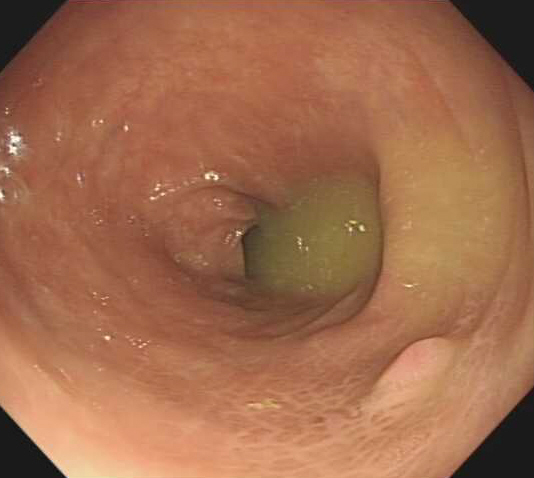adenoma: (364, 333, 457, 409)
